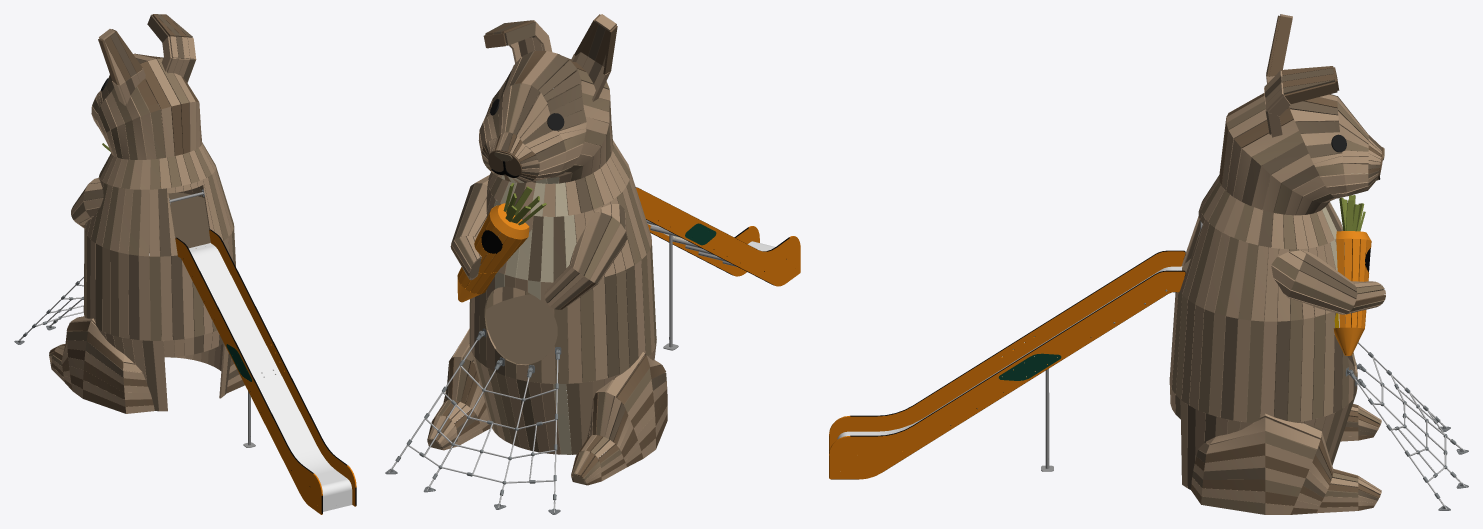
File: Medinė žaidimų skulptūra triušiukas Morkius rgss_61-p-3d.glb
3 views of the same model, side by side, from view 1: azimuth 30°, elevation 25°; view 2: azimuth 150°, elevation 25°; view 3: azimuth 270°, elevation 25° (orthographic). The views are drawn at different scales.
Visible parts, largest first — view 1: Body1030, Body2028, Body2022_2, Body2338, Body2353, Body2023_2, Body2352, Body40002, Body35002, Body41001, Body43001, Body37002 (+26 smaller); view 2: Body2337, Body2022_2, Body2353, Body22006, Body34003, Body36002, Body29005, Body30005, Body32004, Body27006, Body21007, Body2023_2 (+26 smaller); view 3: Body2023_2, Body2352, Body2022_2, Body2353, Body15006, Body16006, Body9006, Body7006, Body14006, Body12006, Body10006, Body13006 (+14 smaller).
Part boxes in pixels (x1,y1,x2,y2): Body1030: (254,371,352,511); Body2028: (189,243,278,376); Body2022_2: (232,359,322,514); Body2338: (149,192,210,252); Body2353: (175,237,248,367); Body2023_2: (271,354,356,506); Body2352: (209,229,282,359); Body40002: (149,256,161,340); Body35002: (160,256,172,340); Body41001: (138,256,150,340); Body43001: (171,255,183,340); Body37002: (128,254,139,339); Body2337: (486,294,568,369); Body2022_2: (691,226,800,286); Body2353: (635,187,710,242); Body22006: (592,277,607,380); Body34003: (580,288,595,382); Body36002: (604,274,619,377); Body29005: (567,297,582,383); Body30005: (615,270,629,374); Body32004: (625,265,638,367); Body27006: (554,307,568,383); Body21007: (566,383,581,454); Body2023_2: (651,226,759,276); Body2023_2: (829,366,1047,479); Body2352: (1009,270,1185,368); Body2022_2: (829,346,1035,451); Body2353: (1009,250,1185,347); Body15006: (1233,319,1250,422); Body16006: (1246,320,1264,422); Body9006: (1274,321,1290,423); Body7006: (1287,319,1302,422); Body14006: (1220,316,1238,420); Body12006: (1260,321,1277,420); Body10006: (1300,317,1314,421); Body13006: (1209,313,1225,417).
Size of the model in its own units: 2.04 by 4.49 by 6.02.
